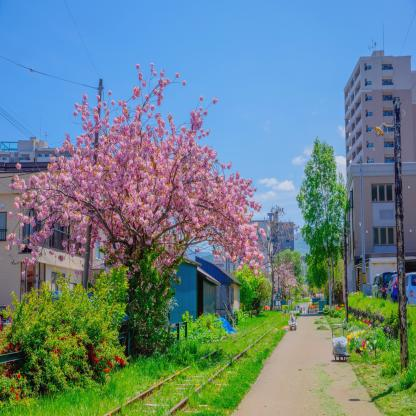YaeSakura: (6, 57, 264, 284), (254, 197, 298, 274), (273, 262, 299, 300)
